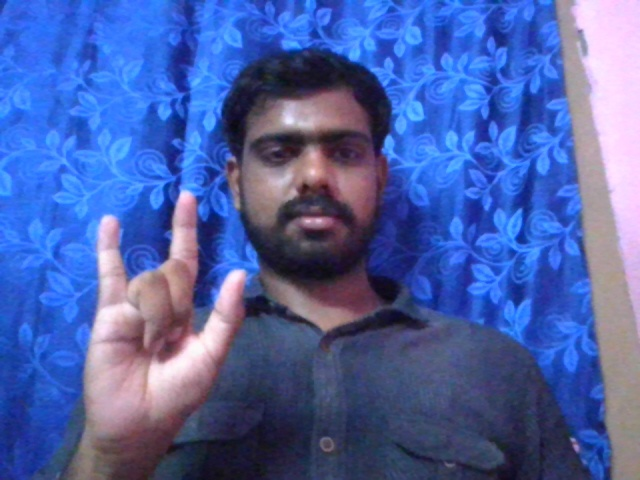IloveYou: (79, 180, 247, 439)
